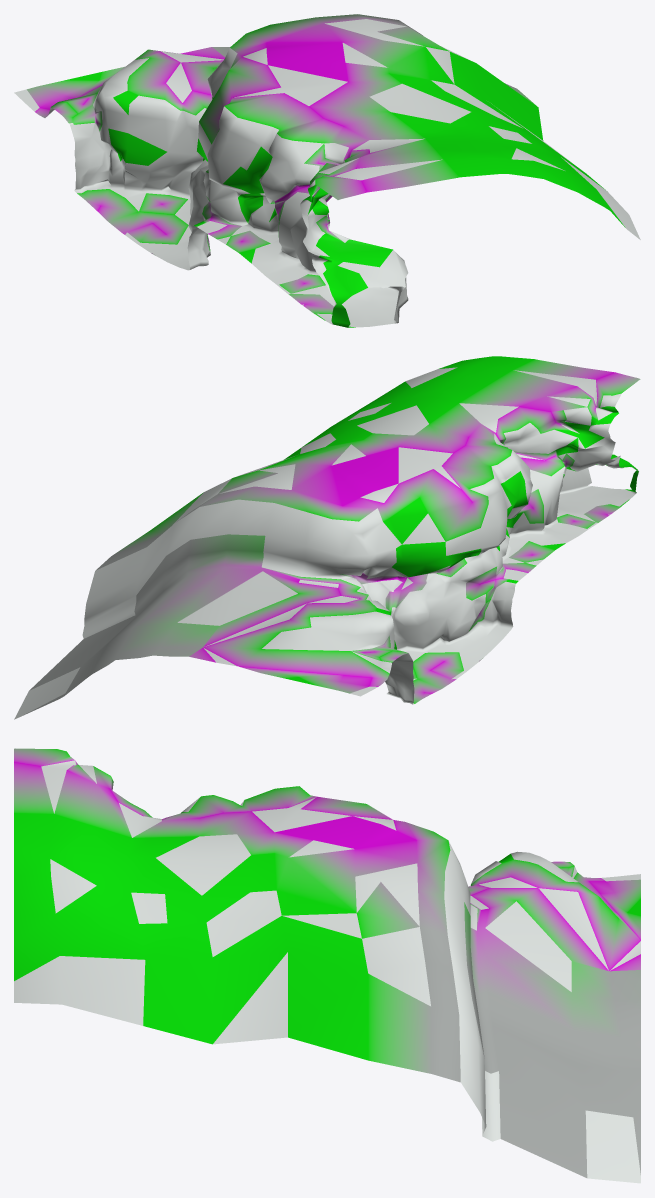
3 views of the same model, one above another, from view 1: azimuth 30°, elevation 25°; view 2: azimuth 150°, elevation 25°; view 3: azimuth 270°, elevation 25° (orthographic). The views are drawn at different scales.
Visible parts, largest first — view 1: G:\FFXIV-MapTools\exports\f1f1\bg\ffxiv\fst_f1\fld\f1f1\bgpl (×9); view 2: G:\FFXIV-MapTools\exports\f1f1\bg\ffxiv\fst_f1\fld\f1f1\bgpl (×9); view 3: G:\FFXIV-MapTools\exports\f1f1\bg\ffxiv\fst_f1\fld\f1f1\bgpl (×6).
Boxes of the visible parts, bbox=[...] form: G:\FFXIV-MapTools\exports\f1f1\bg\ffxiv\fst_f1\fld\f1f1\bgpl (×9): bbox=[14, 14, 640, 327]; G:\FFXIV-MapTools\exports\f1f1\bg\ffxiv\fst_f1\fld\f1f1\bgpl (×9): bbox=[14, 356, 640, 719]; G:\FFXIV-MapTools\exports\f1f1\bg\ffxiv\fst_f1\fld\f1f1\bgpl (×6): bbox=[14, 748, 640, 1183].
Bounding box in the file's own units: 93.7 × 55.48 × 128.
